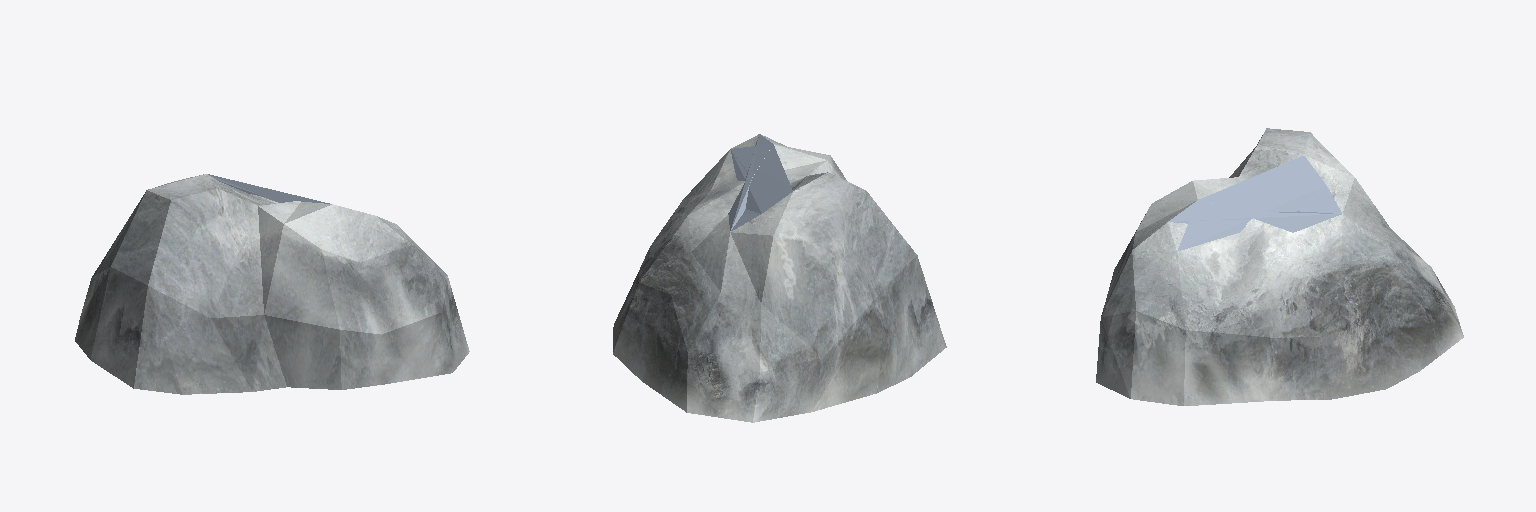
3 views of the same model, side by side, from view 1: azimuth 30°, elevation 25°; view 2: azimuth 150°, elevation 25°; view 3: azimuth 270°, elevation 25° (orthographic).
Parts seen in each view (by area): view 1: boulder, frame_base; view 2: boulder, frame_base; view 3: boulder, frame_base.
Boxes of the visible parts, x1,y1,x2,y2 form: boulder: [75, 174, 469, 394]; frame_base: [208, 174, 329, 203]; boulder: [613, 134, 946, 422]; frame_base: [728, 134, 792, 231]; boulder: [1096, 128, 1463, 405]; frame_base: [1168, 156, 1341, 251].
Size of the model in its own units: 201 by 109 by 208.
2 materials, 1 textured.